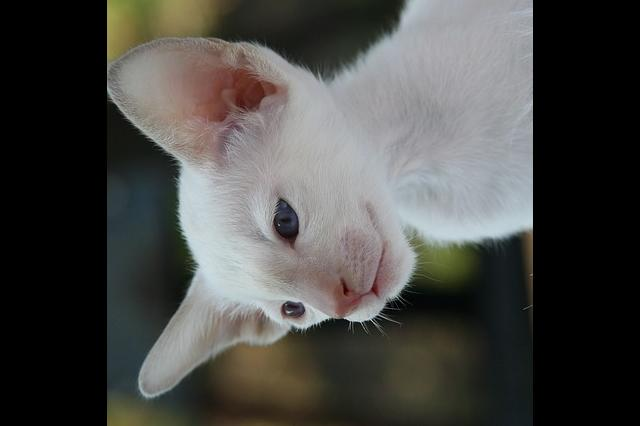cat: (107, 0, 532, 399)
